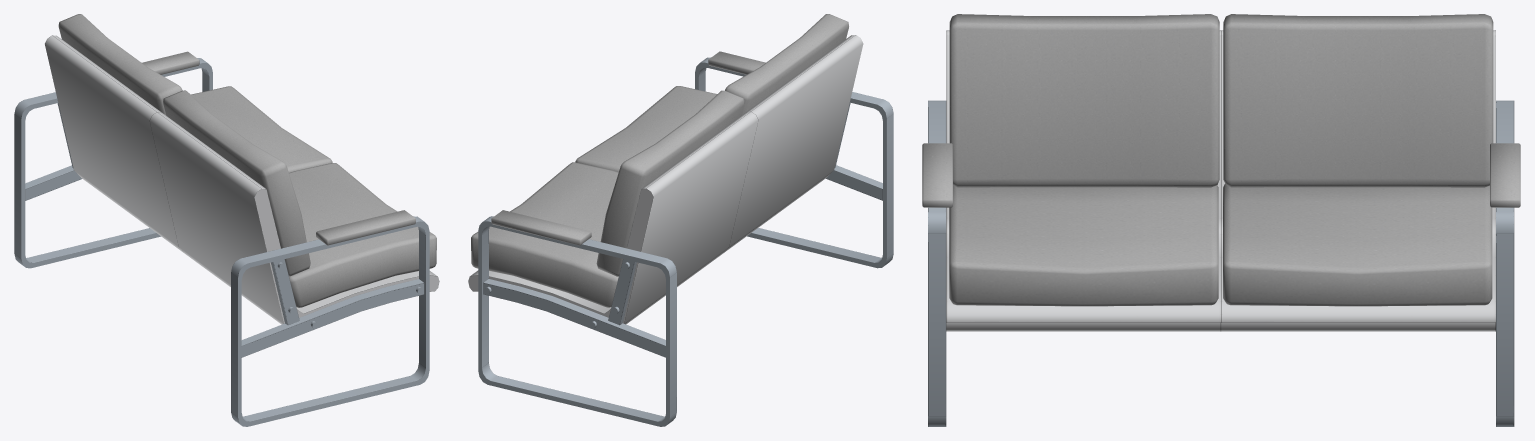
File: Chair_03.FBX
3 views of the same model, side by side, from view 1: azimuth 30°, elevation 25°; view 2: azimuth 150°, elevation 25°; view 3: azimuth 270°, elevation 25° (orthographic). The views are drawn at different scales.
Visible parts, largest first — view 1: Chair_03, Tissus; view 2: Chair_03, Tissus; view 3: Tissus, Chair_03.
Part boxes in pixels (x1,y1,x2,y2): Chair_03: (14,35,439,426); Tissus: (58,14,436,307); Chair_03: (468,35,893,426); Tissus: (471,14,848,307); Tissus: (922,14,1520,306); Chair_03: (928,30,1514,426).
Bounding box in the file's own units: 1.22 × 1.37 × 2.3.
1 material, 1 textured.
